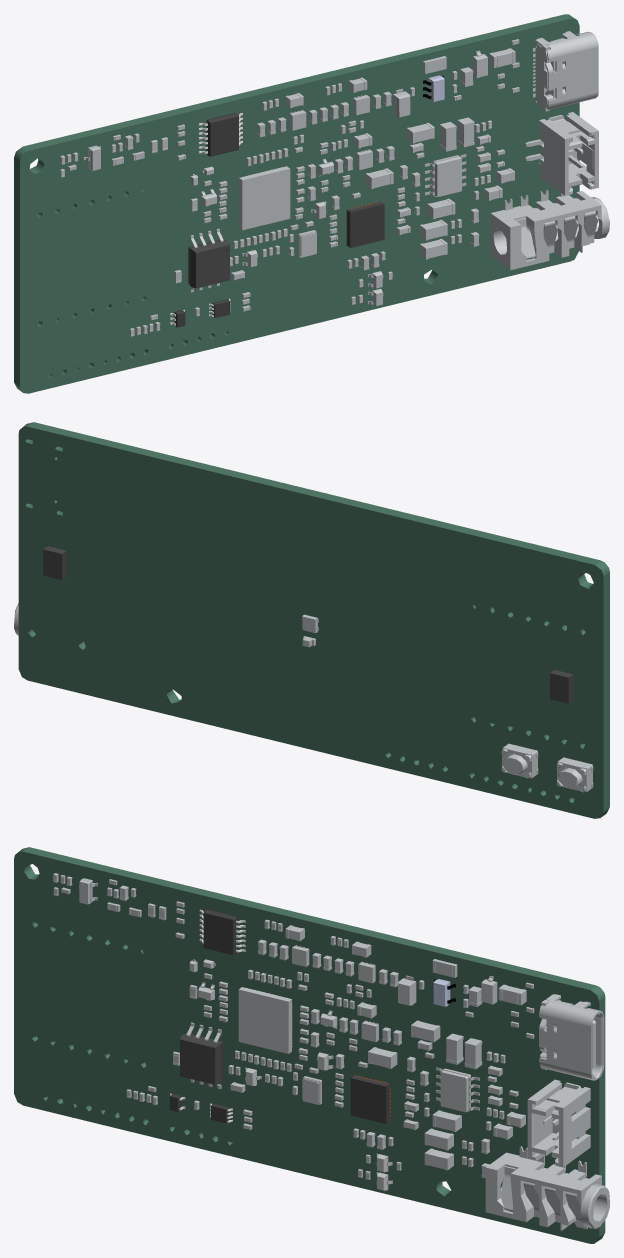
Rendered from respeaker.glb.
The picture shows the model from 3 angles, top to bottom: view 1: azimuth 30°, elevation 25°; view 2: azimuth 150°, elevation 25°; view 3: azimuth 330°, elevation 25°; orthographic projection. The views are drawn at different scales.
Parts seen in each view (by area): view 1: ReSpeaker Lite v1.1_PCB, R_0402_1005Metric, BODY-QFN, Body; view 2: ReSpeaker Lite v1.1_PCB, R_0402_1005Metric, Body; view 3: ReSpeaker Lite v1.1_PCB, R_0402_1005Metric, BODY-QFN, Body.
Boxes of the visible parts, bbox=[...] form: ReSpeaker Lite v1.1_PCB: bbox=[14, 14, 579, 393]; R_0402_1005Metric: bbox=[60, 31, 609, 336]; BODY-QFN: bbox=[174, 113, 384, 327]; Body: bbox=[188, 239, 229, 288]; ReSpeaker Lite v1.1_PCB: bbox=[18, 422, 609, 818]; R_0402_1005Metric: bbox=[14, 447, 593, 792]; Body: bbox=[43, 546, 573, 703]; ReSpeaker Lite v1.1_PCB: bbox=[14, 847, 605, 1243]; R_0402_1005Metric: bbox=[53, 873, 609, 1230]; BODY-QFN: bbox=[170, 909, 390, 1123]; Body: bbox=[180, 1033, 223, 1084].
Size of the model in its own units: 2 by 0.8135 by 0.2615.
